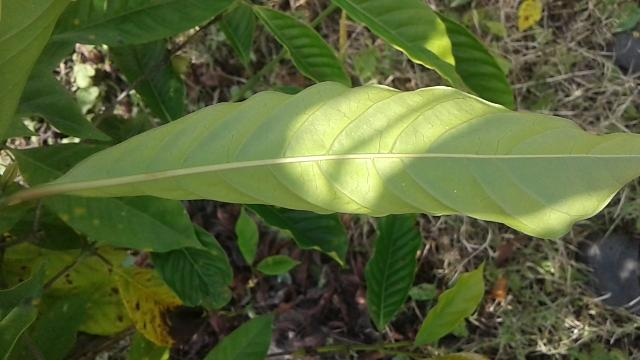healthy: (61, 80, 638, 240)
